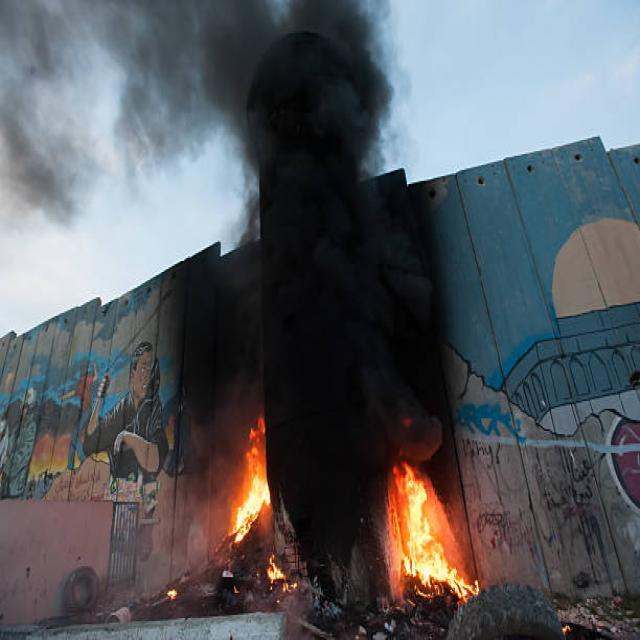Fire: (396, 469, 458, 605), (230, 426, 269, 526)
Smoke: (253, 31, 441, 556), (3, 0, 276, 200)
